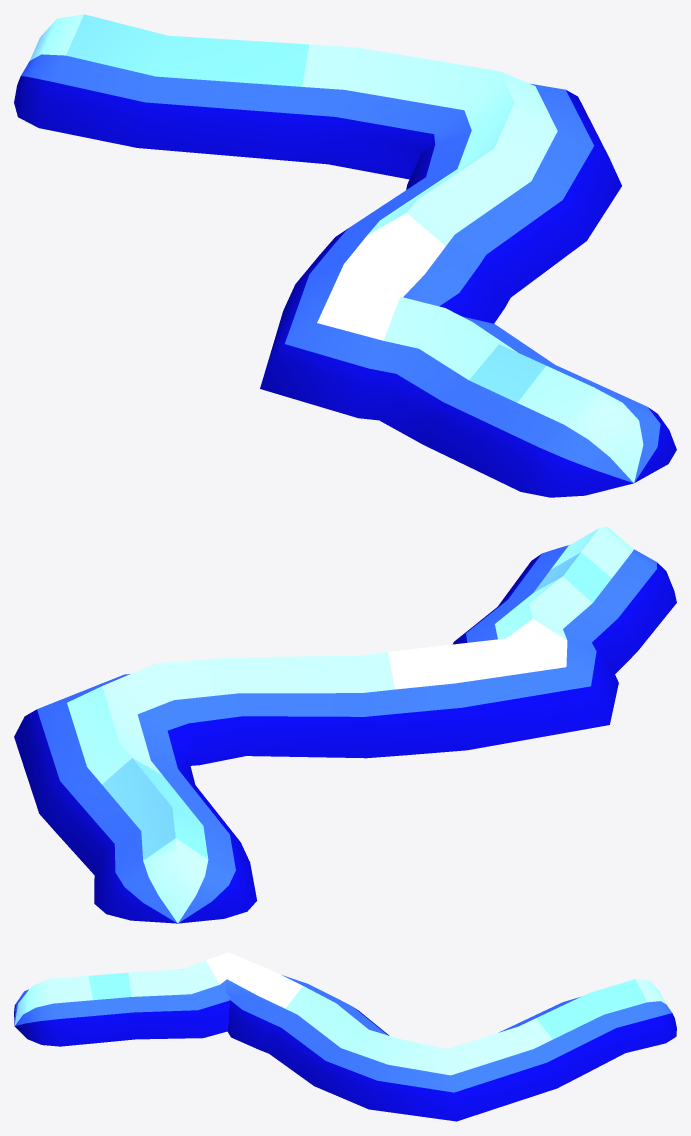
Rendered from shot_lightning.glb.
The picture shows the model from 3 angles, top to bottom: view 1: azimuth 30°, elevation 25°; view 2: azimuth 150°, elevation 25°; view 3: azimuth 270°, elevation 25°; orthographic projection. The views are drawn at different scales.
Parts seen in each view (by area): view 1: shot_lightning_0; view 2: shot_lightning_0; view 3: shot_lightning_0.
Part boxes in pixels (x1,y1,x2,y2): shot_lightning_0: (14,14,676,497); shot_lightning_0: (14,526,676,923); shot_lightning_0: (14,952,676,1121).
Bounding box in the file's own units: 8.29 × 1.26 × 15.82.
